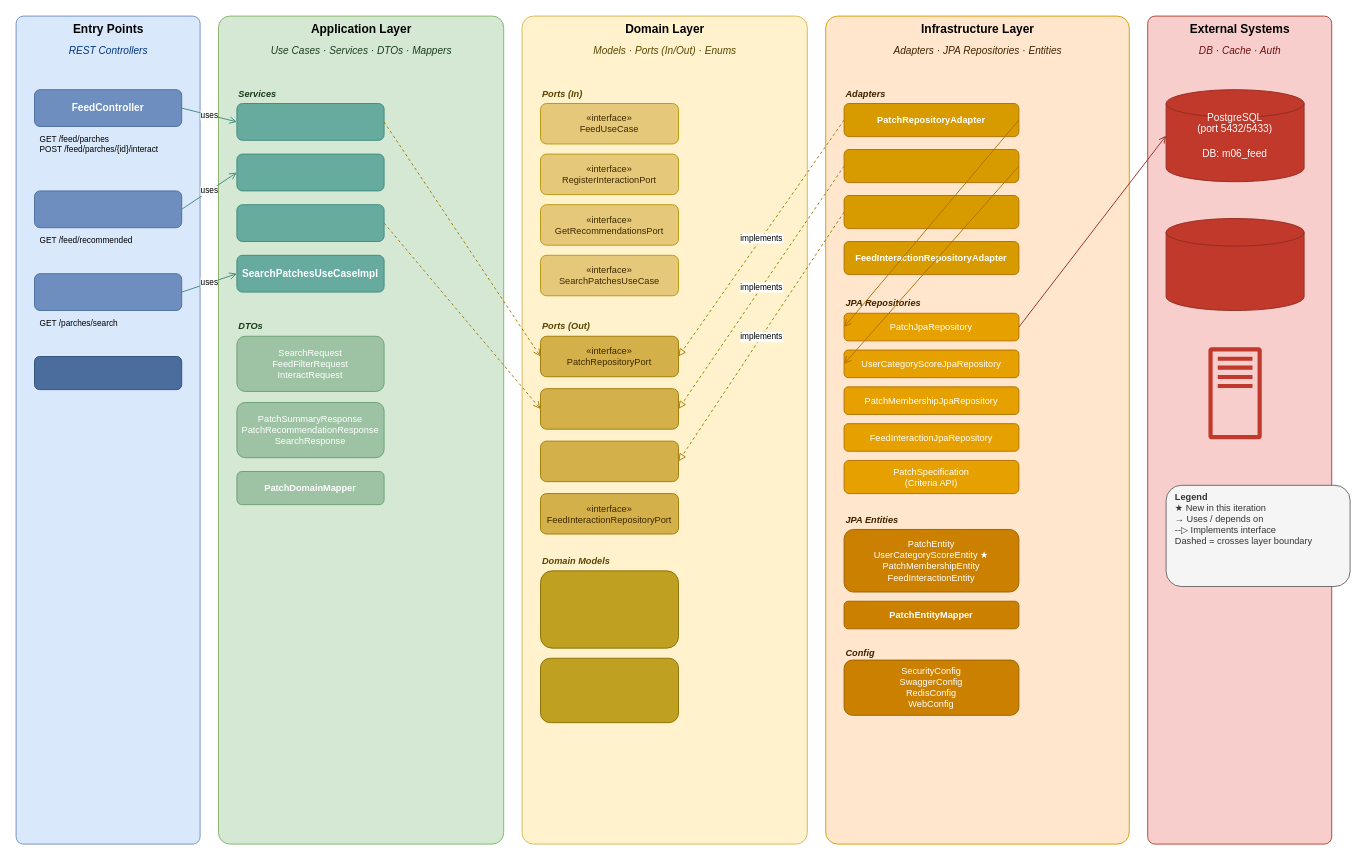
Some shapes in this 1366 by 860 pixel diagram are drawn without their labels. The centre of each missing label's shape, as x and y in pixels:
"FeedService" belongs at (310,121).
"GlobalExceptionHandler" belongs at (108,373).
"M01 Auth Service (AWS Lambda) JWT Bearer tokens" belongs at (1234,392).
"MembershipRepositoryAdapter" belongs at (931,212).
"Patch UserCategoryScore ★ PatchMembership FeedInteraction ScoredPatch" belongs at (609,609).
"PatchCategory CampusZone PatchStatus InteractionType" belongs at (609,690).
"RecommendationController" belongs at (108,209).
"RecommendationService" belongs at (310,172).
"Redis (port 6379) TTL: 5 min" belongs at (1234,264).
"RegisterInteractionService" belongs at (310,223).
"SearchController" belongs at (108,291).
"UserCategoryScoreRepositoryAdapter" belongs at (931,166).
"«interface» MembershipRepositoryPort" belongs at (609,461).
"«interface» UserCategoryScoreRepositoryPort" belongs at (609,408).
